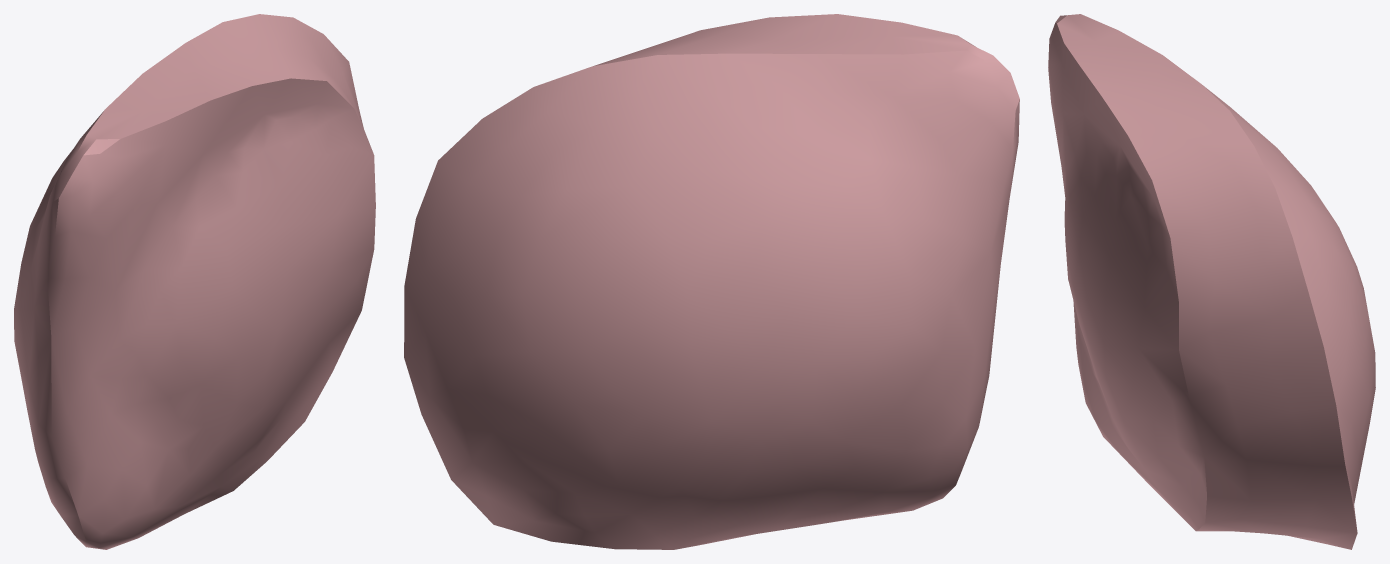
The model's file is fma78488-r_mm3086m.glb.
The picture shows the model from 3 angles, left to right: view 1: azimuth 30°, elevation 25°; view 2: azimuth 150°, elevation 25°; view 3: azimuth 270°, elevation 25°; orthographic projection. The views are drawn at different scales.
Parts seen in each view (by area): view 1: FMA78488-R_MM3086M; view 2: FMA78488-R_MM3086M; view 3: FMA78488-R_MM3086M.
Boxes of the visible parts, bbox=[...] form: FMA78488-R_MM3086M: bbox=[14, 14, 375, 549]; FMA78488-R_MM3086M: bbox=[404, 14, 1019, 549]; FMA78488-R_MM3086M: bbox=[1048, 14, 1375, 549].
Size of the model in its own units: 0.00308 by 0.00311 by 0.00211.
